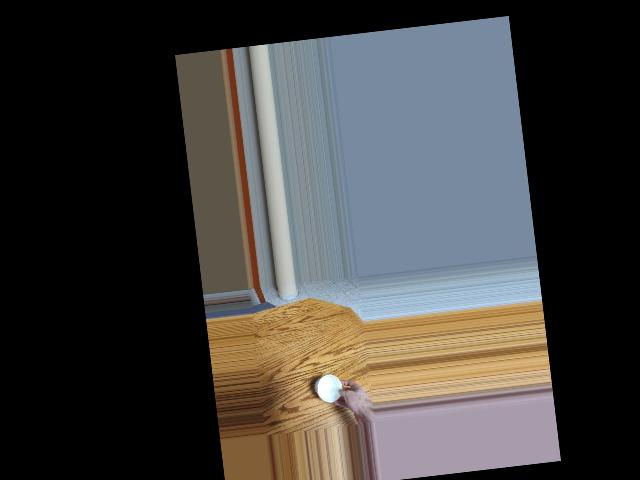cotage: (314, 368, 345, 404)
